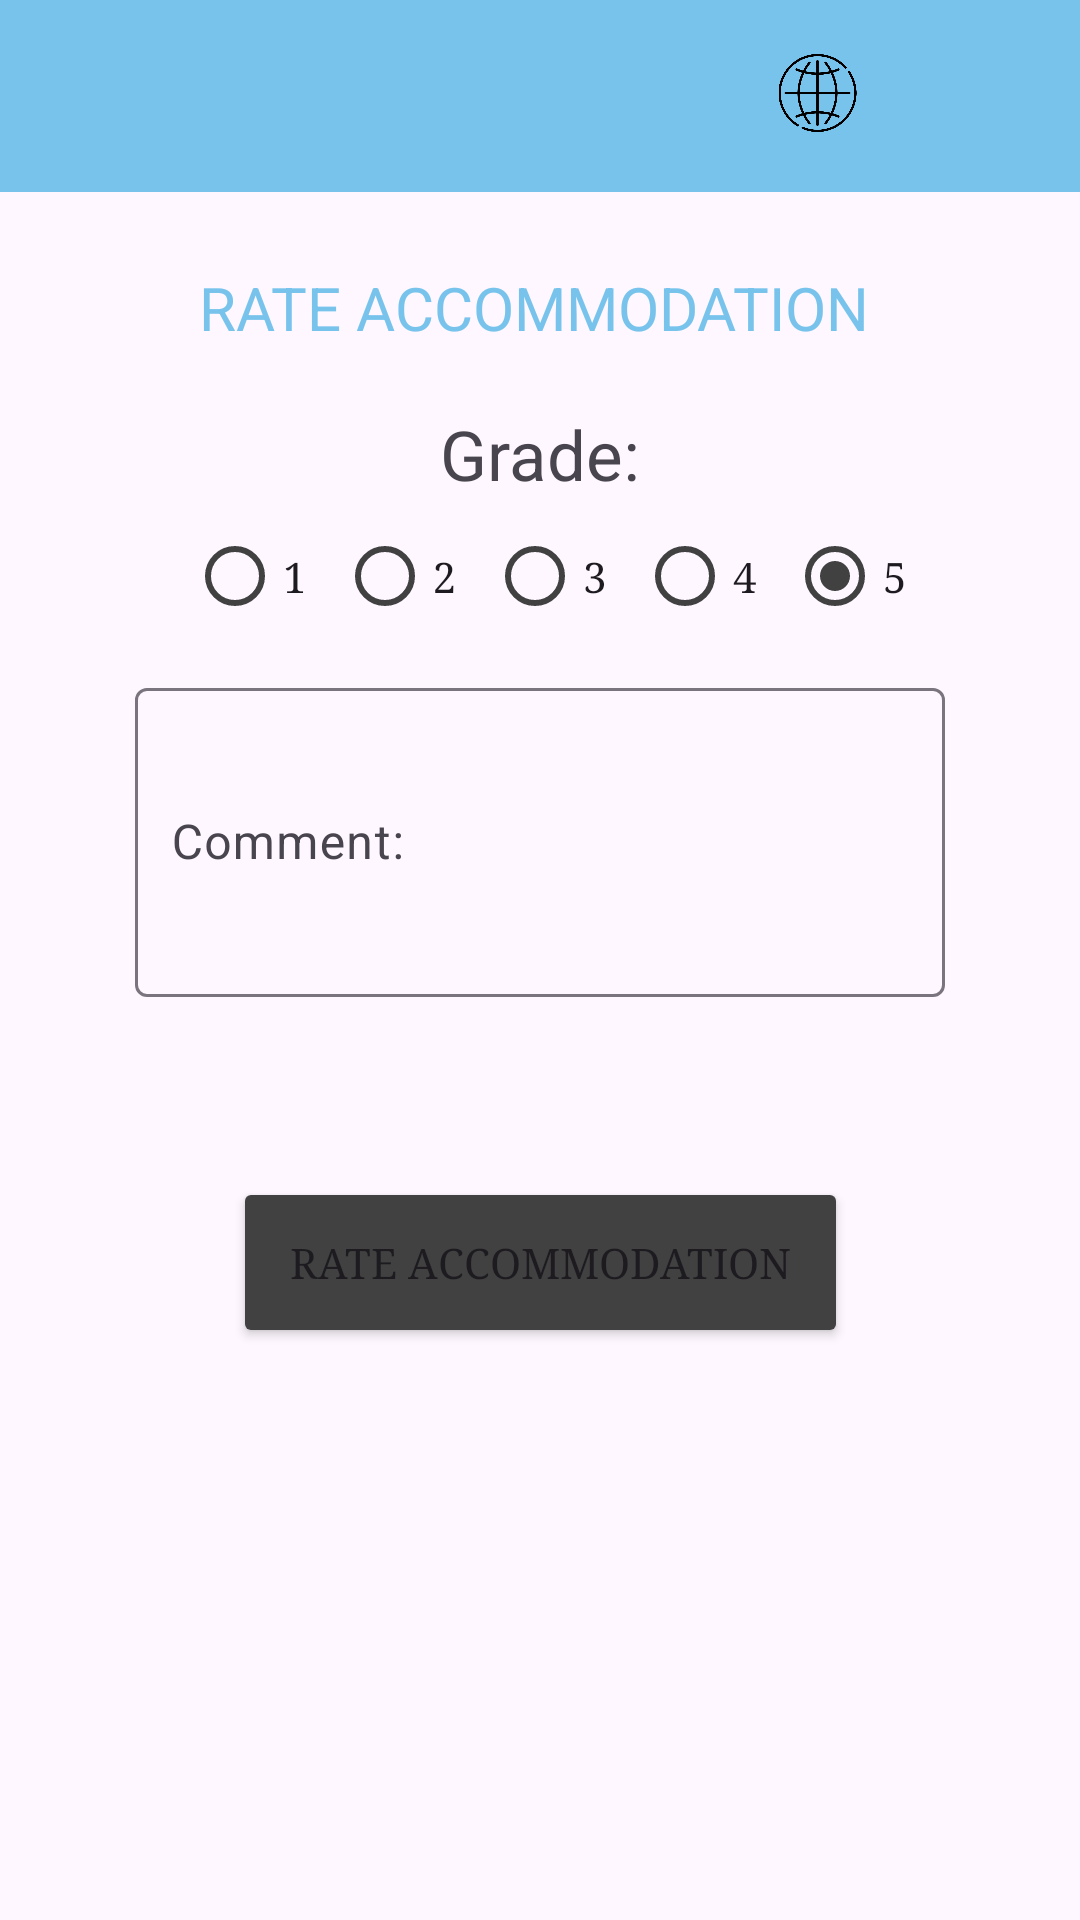

Named icons in this screenshot (1080×1920) and their bounding boxes, (x1, y1, x2, y2):
Language Button: (779, 54, 857, 132)
